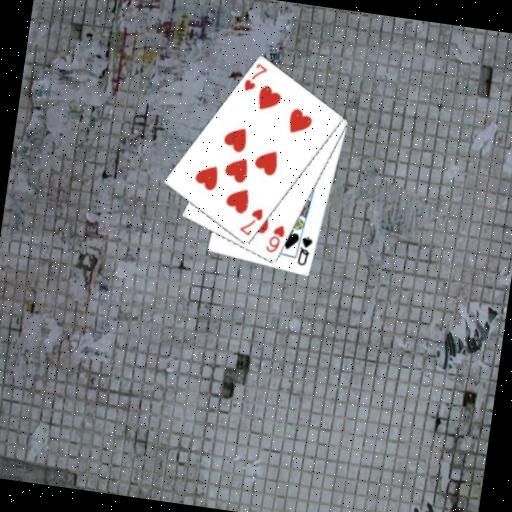6H: (262, 220, 287, 256)
7H: (236, 203, 265, 240), (241, 59, 270, 96)
QS: (294, 233, 315, 269)
